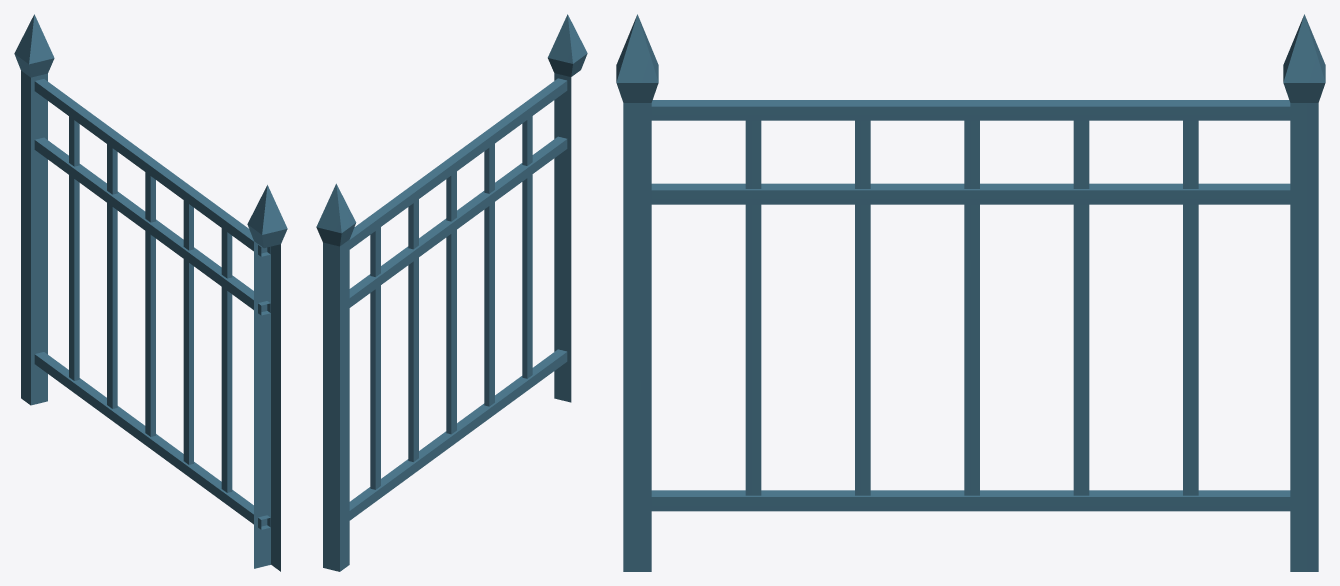
The model's file is Hang rao.fbx.
3 renders of one model, left to right at view 1: azimuth 30°, elevation 25°; view 2: azimuth 150°, elevation 25°; view 3: azimuth 270°, elevation 25°, orthographic. The views are drawn at different scales.
Visible parts, largest first — view 1: Hang rao; view 2: Hang rao; view 3: Hang rao.
Boxes of the visible parts, bbox=[...] form: Hang rao: bbox=[14, 14, 287, 571]; Hang rao: bbox=[316, 14, 587, 571]; Hang rao: bbox=[616, 14, 1325, 571].
Size of the model in its own units: 16.32 by 235 by 274.
